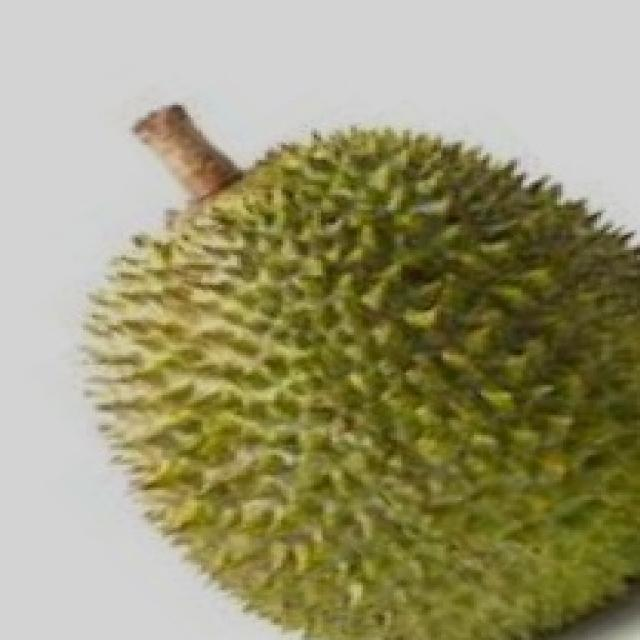fruit: (37, 267, 397, 640)
